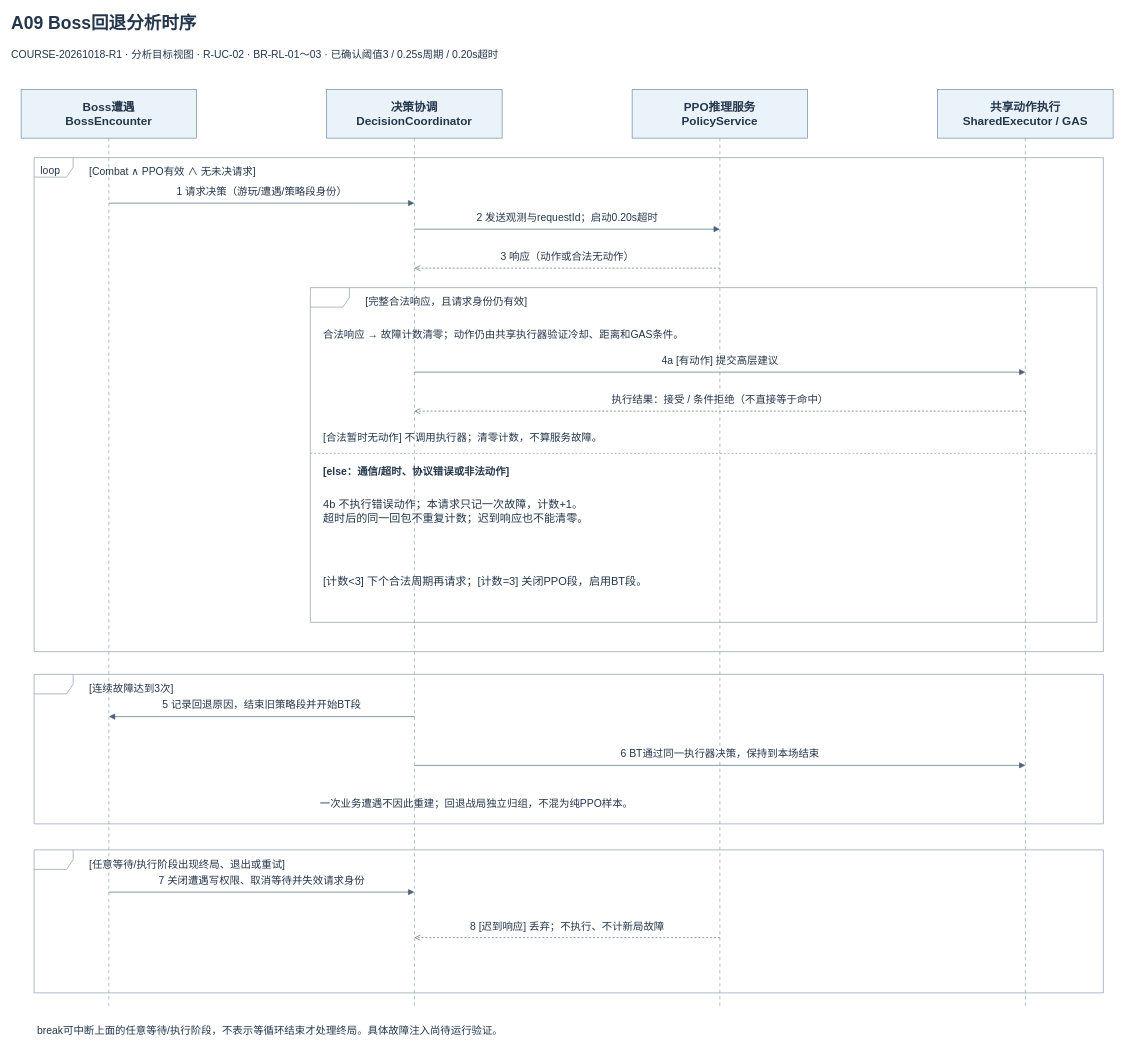
This 1127x1052 diagram has some shape labels left out. The box of each missing label's shape, as (x1, y1, x2, y2) in pixels:
alt: (310, 287, 1097, 622)
break: (33, 849, 1103, 993)
opt: (33, 674, 1103, 824)
